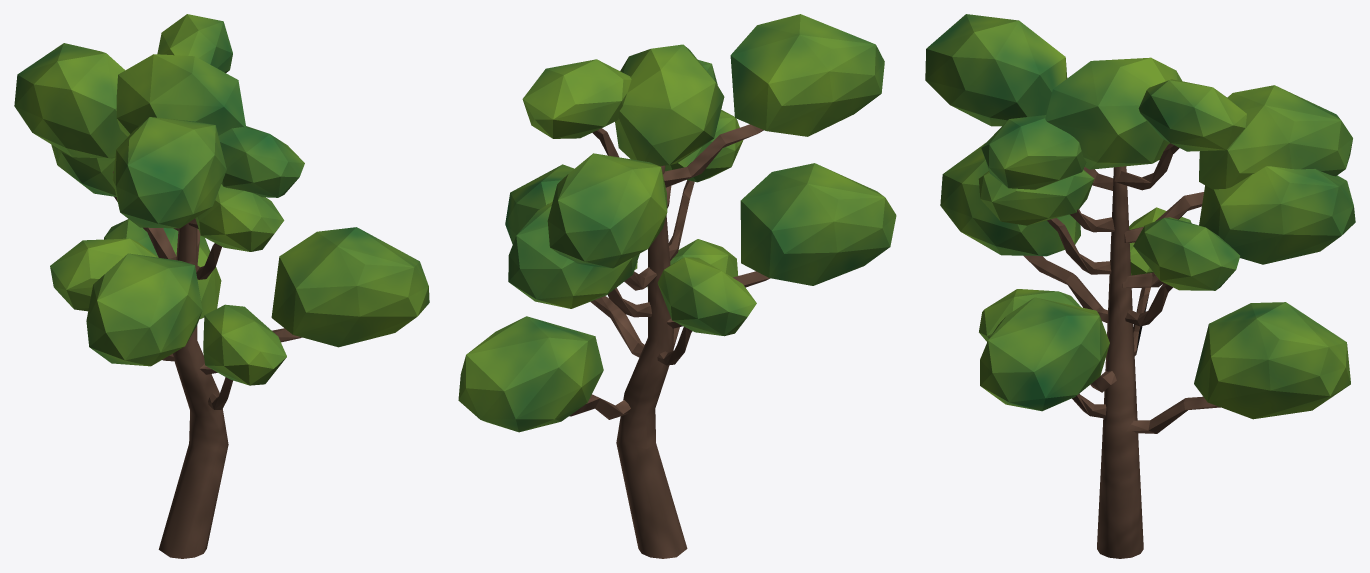
File: tree275_LOD.fbx
3 renders of one model, left to right at view 1: azimuth 30°, elevation 25°; view 2: azimuth 150°, elevation 25°; view 3: azimuth 270°, elevation 25°, orthographic.
Parts seen in each view (by area): view 1: tree275_LOD0; view 2: tree275_LOD0; view 3: tree275_LOD0.
Part boxes in pixels (x1,y1,x2,y2): tree275_LOD0: [14, 14, 429, 558]; tree275_LOD0: [458, 14, 896, 558]; tree275_LOD0: [925, 14, 1355, 558].
Size of what is drawn, in the model's own units: 1025 by 1362 by 1088.
